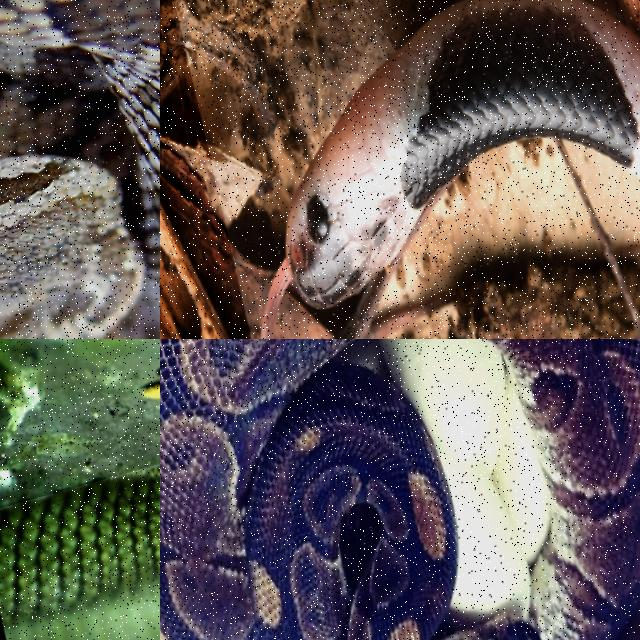Bungarus candidus: (261, 0, 639, 338)
Chrysopelea ornata: (0, 469, 159, 639)
Daboia siamensis: (0, 0, 159, 338)
Python bivittatus: (160, 339, 639, 639)
snake: (160, 339, 639, 639), (261, 0, 639, 338), (0, 0, 159, 338), (0, 469, 159, 639)
